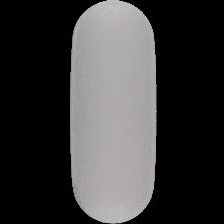64725-0281: (0, 0, 224, 224)
